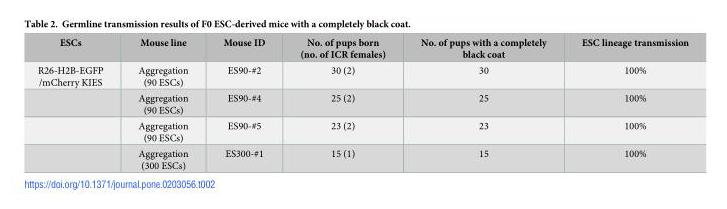table: (36, 37, 688, 170)
table column: (402, 37, 563, 170), (563, 37, 688, 170), (281, 37, 402, 170), (120, 37, 205, 170), (36, 37, 120, 170), (205, 37, 281, 170)
table column header: (36, 37, 688, 62)
table row: (36, 62, 688, 90), (36, 117, 688, 145), (36, 90, 688, 117), (36, 37, 688, 62), (36, 145, 688, 170)
table spanning cell: (36, 62, 120, 170)
